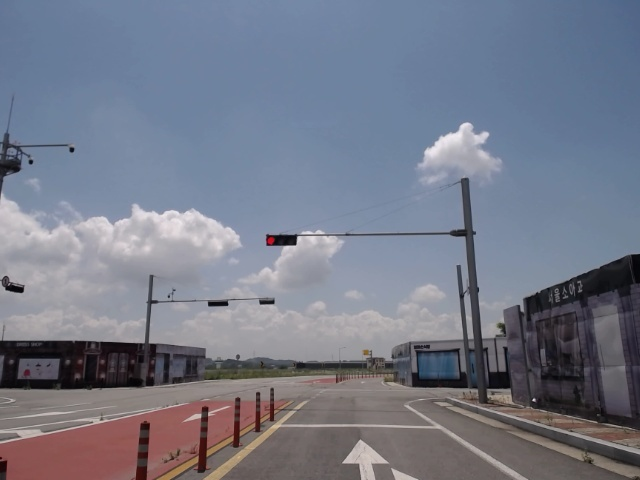red_3: (264, 235, 299, 246)
